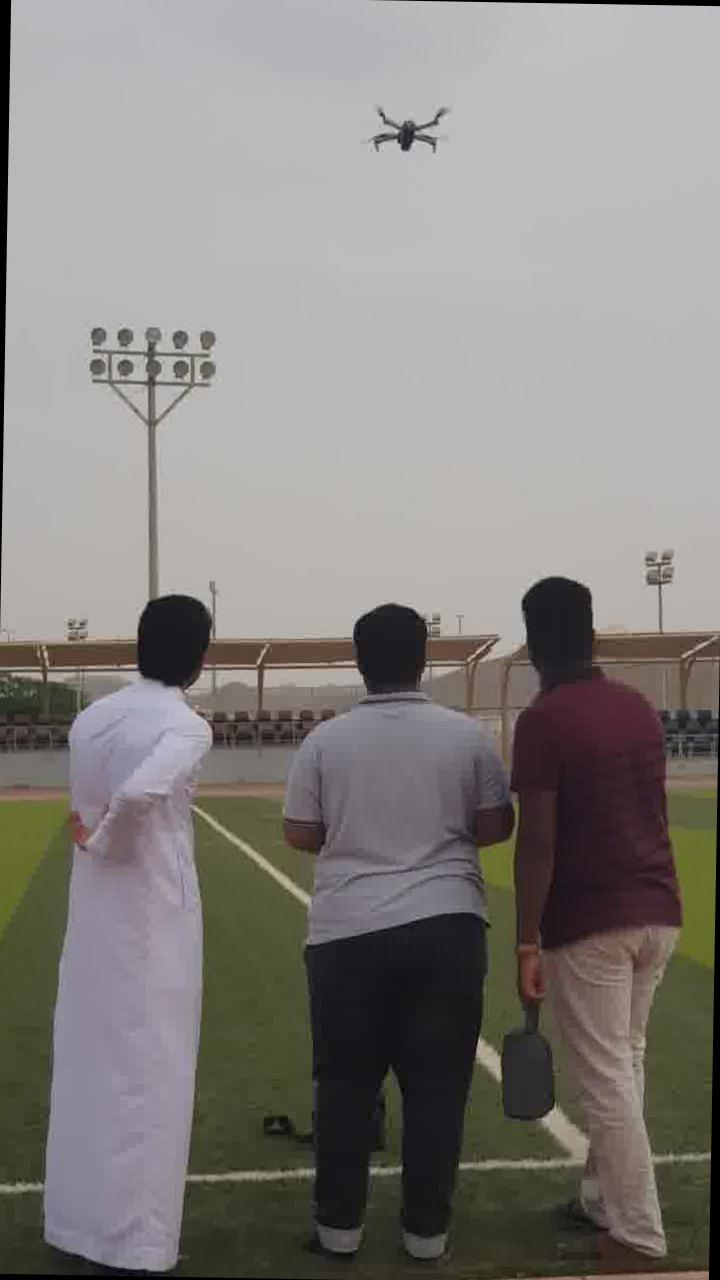drone: (354, 96, 459, 164)
